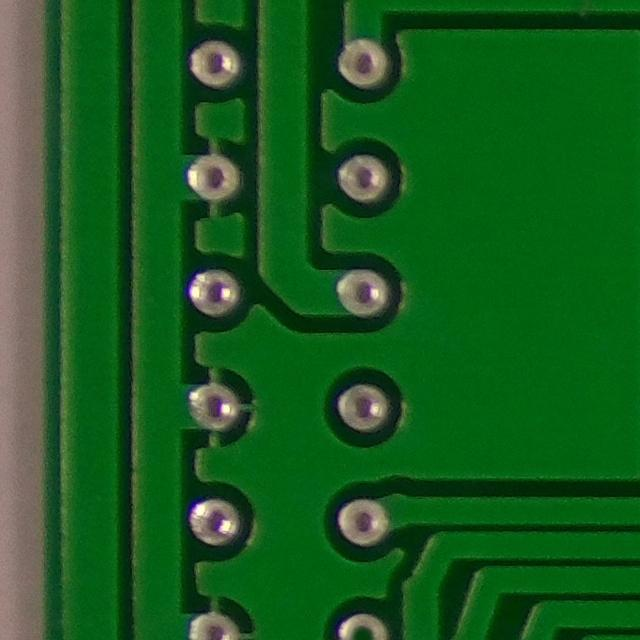missing_hole: (337, 602, 393, 640)
